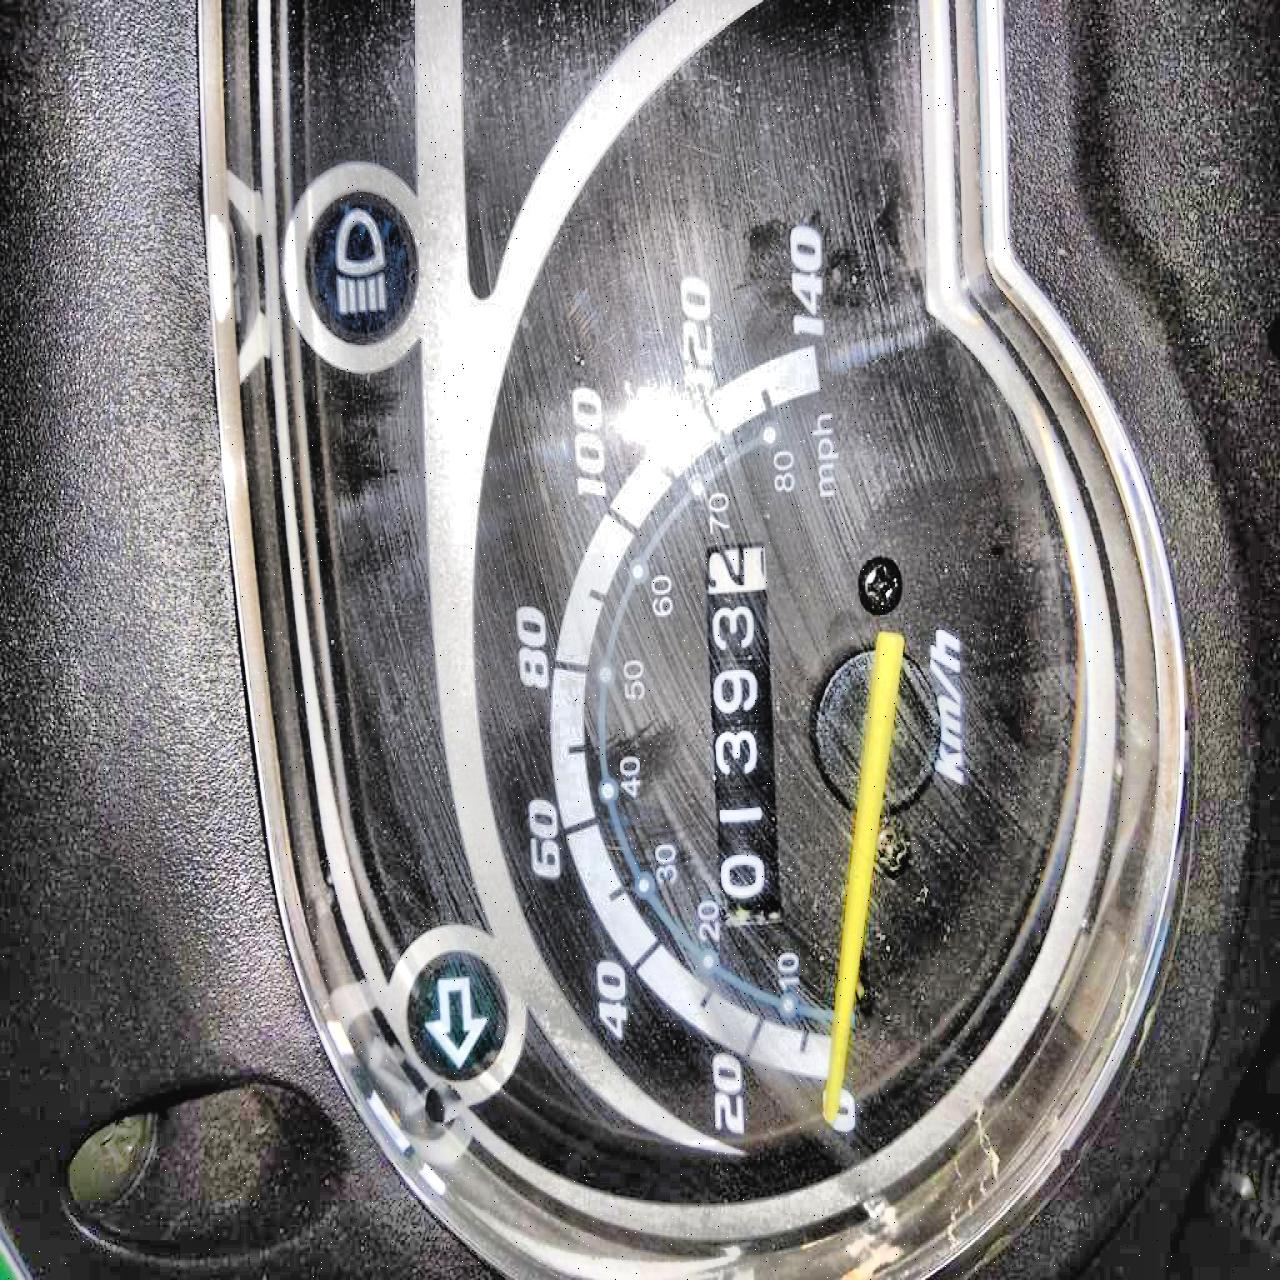0: (716, 850, 765, 898), (701, 897, 719, 921)
1: (710, 791, 770, 830)
2: (700, 540, 748, 590)
3: (708, 724, 763, 778), (703, 600, 756, 652)
9: (707, 665, 762, 713)
odometer: (699, 537, 787, 931)
